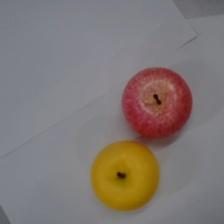red: (121, 65, 193, 139)
yellow: (90, 139, 159, 211)
